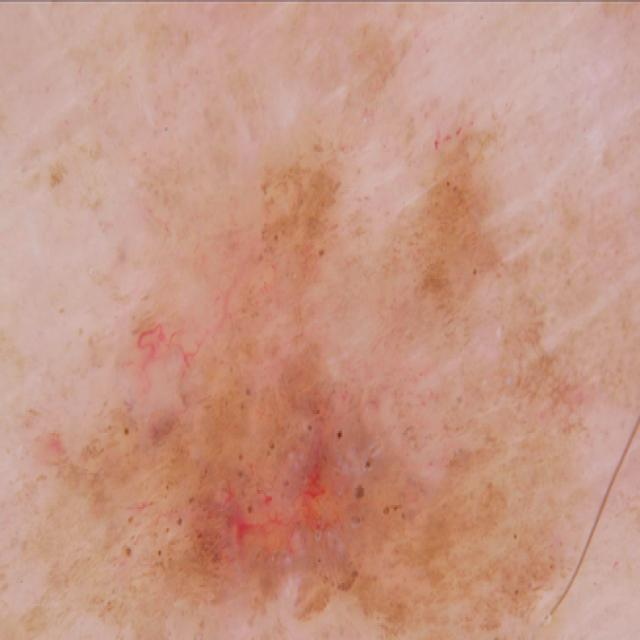Keratosis: (76, 309, 453, 640), (250, 151, 564, 501), (0, 478, 230, 640)
